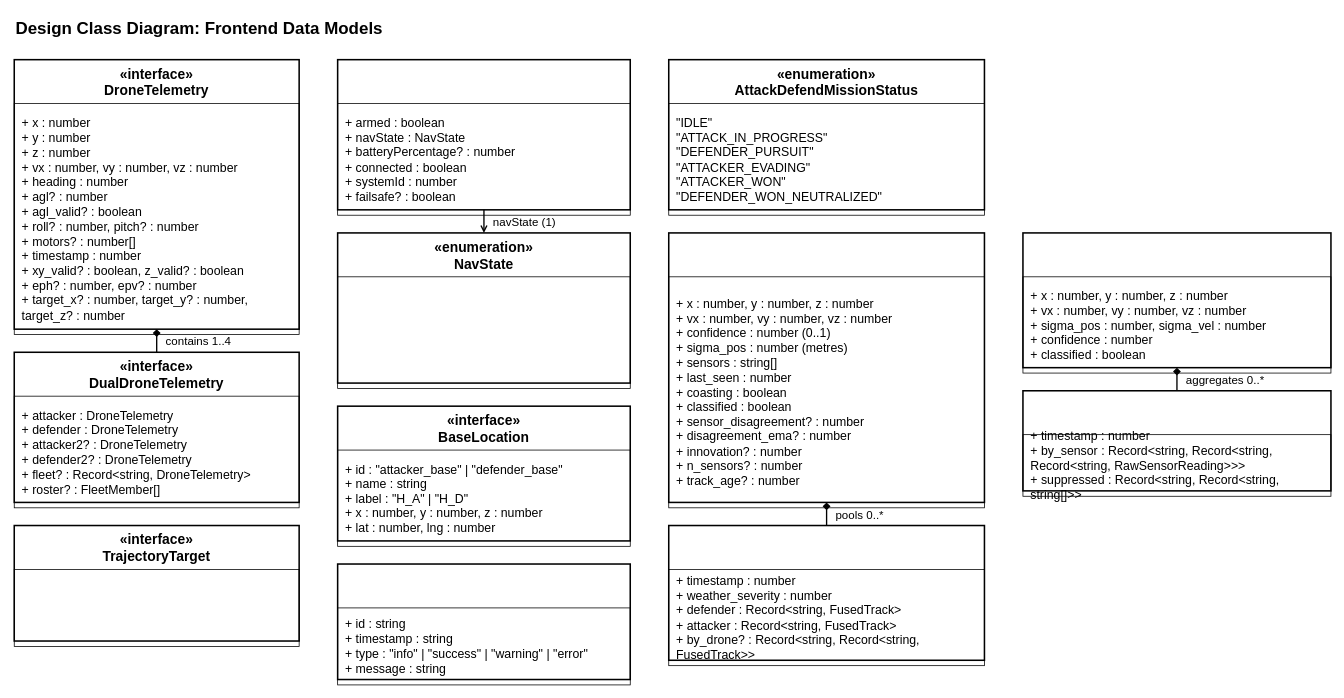
Some shapes in this 1344 by 698 pixel diagram are drawn without their labels. The box of each missing label's shape, as (x1, y1, x2, y2) in pixels:
"OFFBOARD" "MANUAL" "AUTO_LAND" "AUTO_RTL" "HOLD" "UNKNOWN": (337, 276, 630, 388)
+ x : number + y : number + z : number + yaw : number: (13, 569, 299, 646)
«interface» DroneStatus: (336, 59, 631, 210)
«interface» FusedTrack: (668, 232, 985, 503)
«interface» MissionLog: (336, 563, 631, 680)
«interface» RawDetections: (1022, 390, 1331, 491)
«interface» RawSensorReading: (1022, 232, 1331, 368)
«interface» SwarmDetections: (668, 524, 985, 661)
